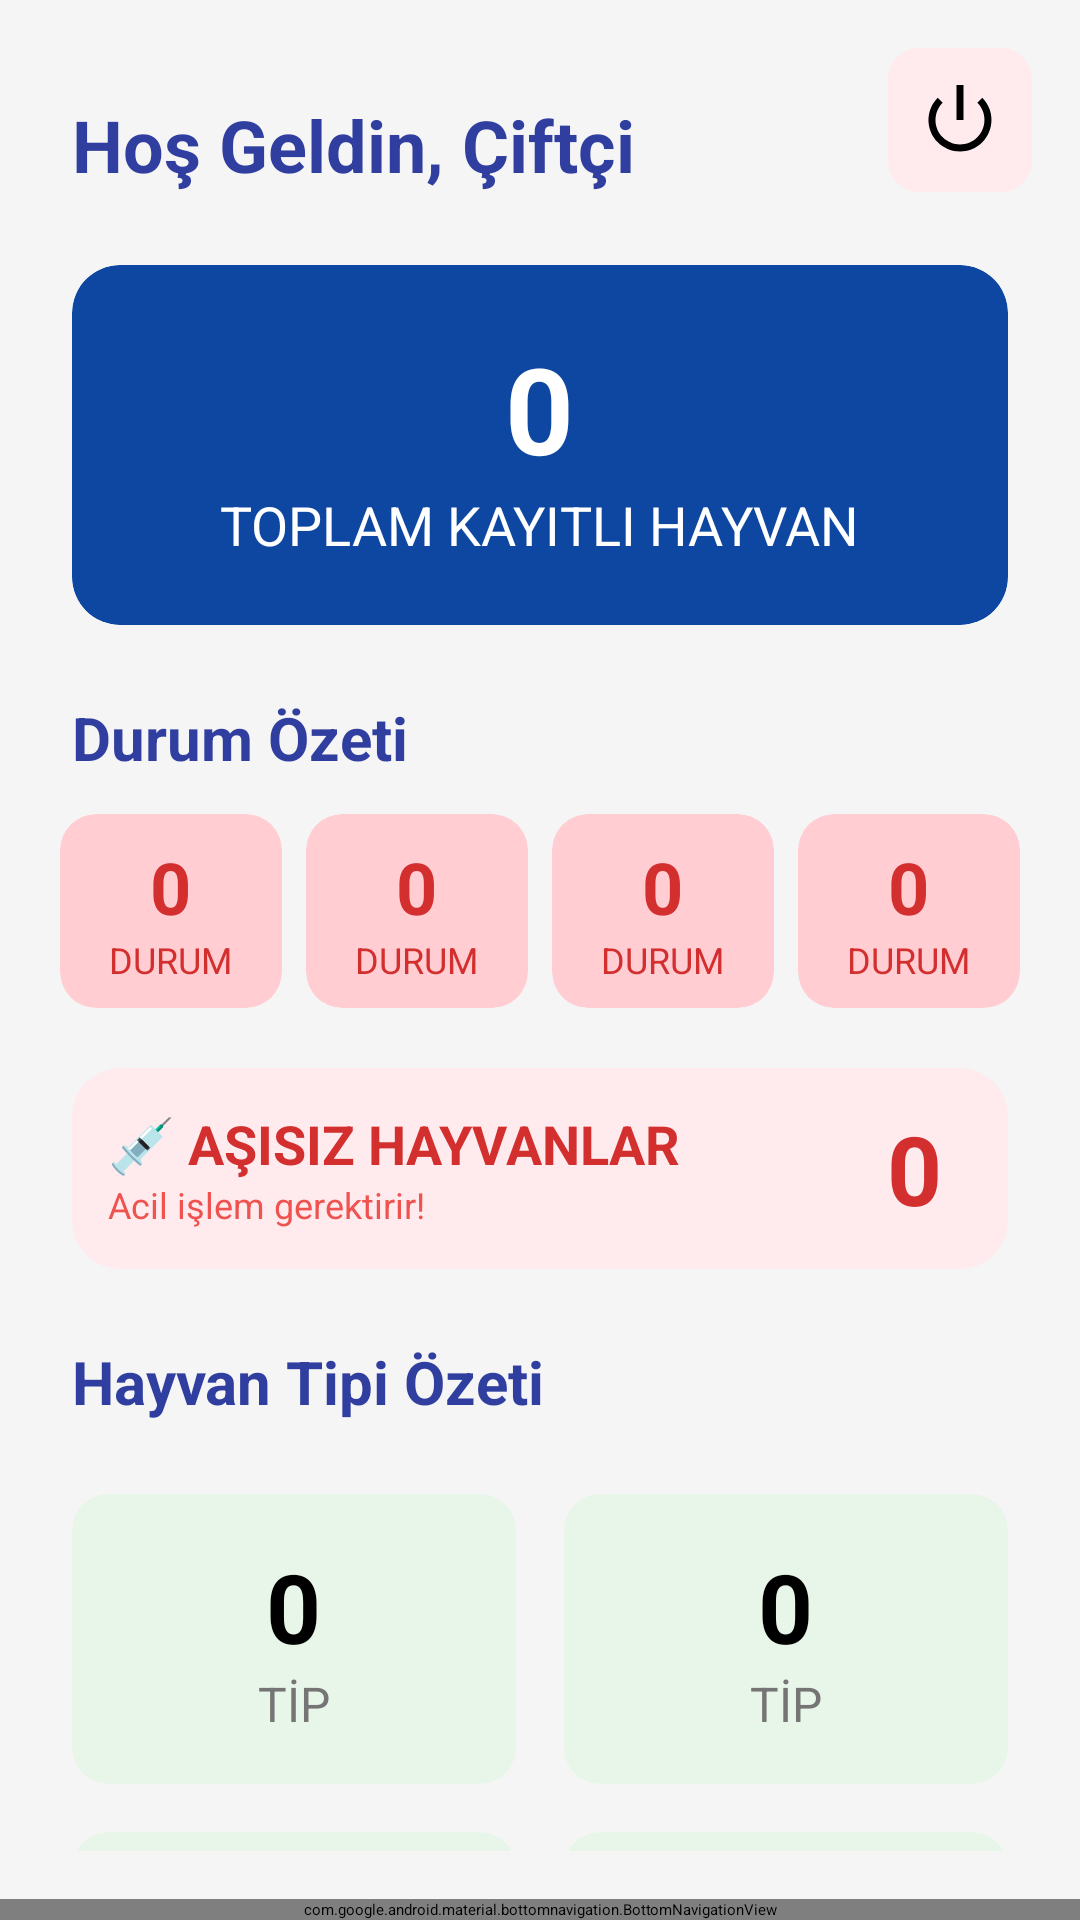

Named icons in this screenshot (1080 x 1920) and their bounding boxes, box=[x1, y1, x2, y2]:
Çıkış Yap: box=[888, 48, 1032, 192]
